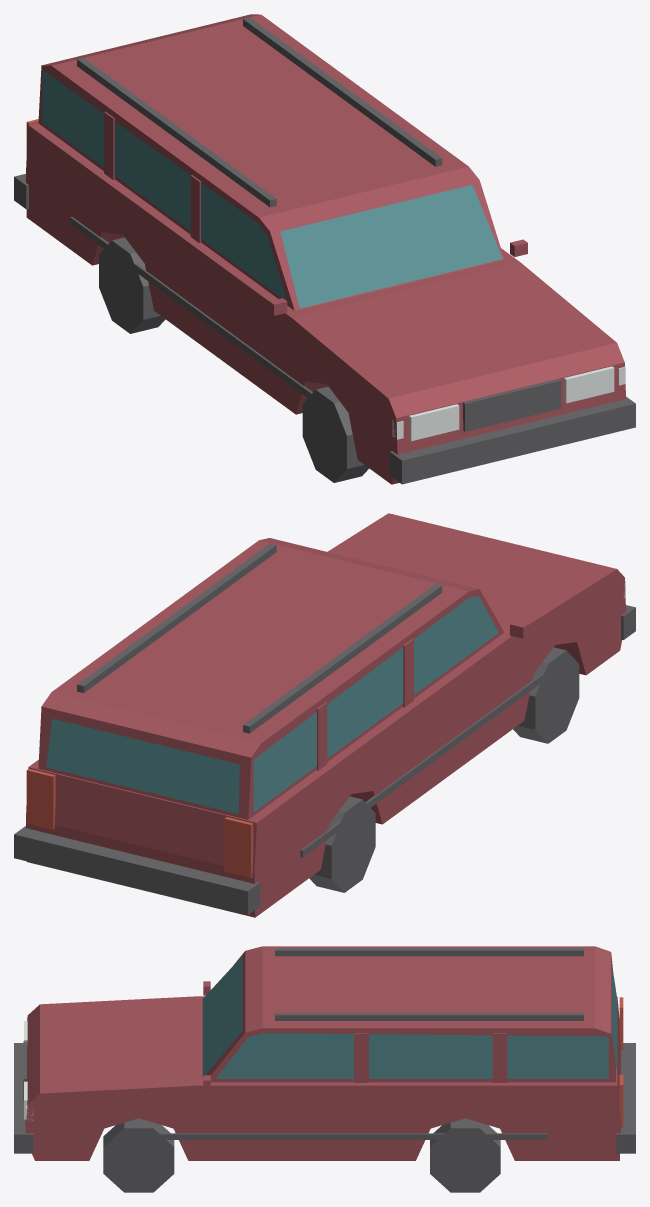
Rendered from volvo240.glb.
3 renders of one model, top to bottom at view 1: azimuth 30°, elevation 25°; view 2: azimuth 150°, elevation 25°; view 3: azimuth 270°, elevation 25°, orthographic. The views are drawn at different scales.
Parts seen in each view (by area): view 1: volvo240, glass, trim, lights; view 2: volvo240, trim, glass, taillights; view 3: volvo240, trim, glass, taillights.
Boxes of the visible parts, left/top/right/bottom form: volvo240: left=26, top=14, right=625, bottom=484; glass: left=42, top=70, right=502, bottom=308; trim: left=14, top=17, right=635, bottom=484; lights: left=392, top=366, right=625, bottom=441; volvo240: left=26, top=513, right=625, bottom=917; trim: left=14, top=543, right=635, bottom=915; glass: left=46, top=596, right=498, bottom=814; taillights: left=26, top=768, right=253, bottom=877; volvo240: left=25, top=946, right=620, bottom=1160; trim: left=14, top=948, right=635, bottom=1192; glass: left=202, top=956, right=617, bottom=1078; taillights: left=619, top=997, right=623, bottom=1127.
Size of the model in its own units: 1.9 by 1.48 by 5.03.
